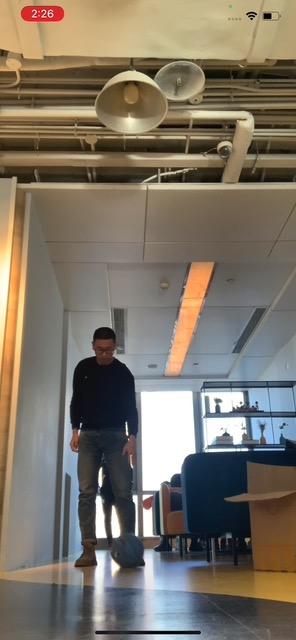ball: (110, 533, 145, 569)
